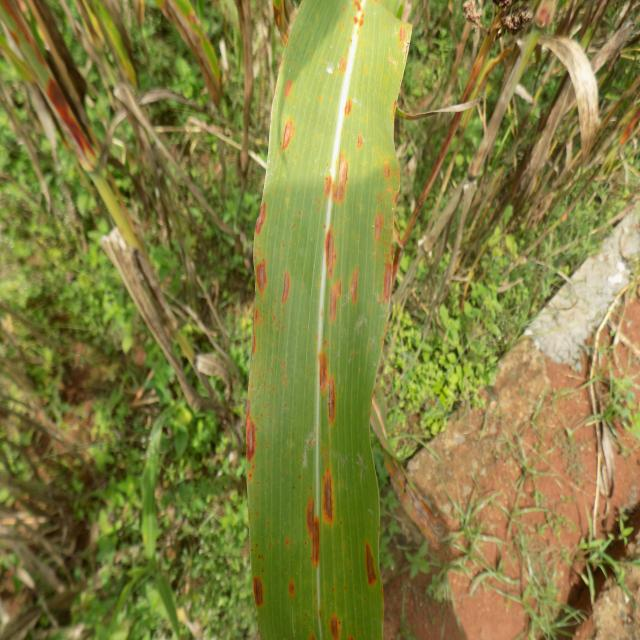millet_healthy: (140, 406, 164, 553)
millet_rust: (246, 0, 396, 640)
